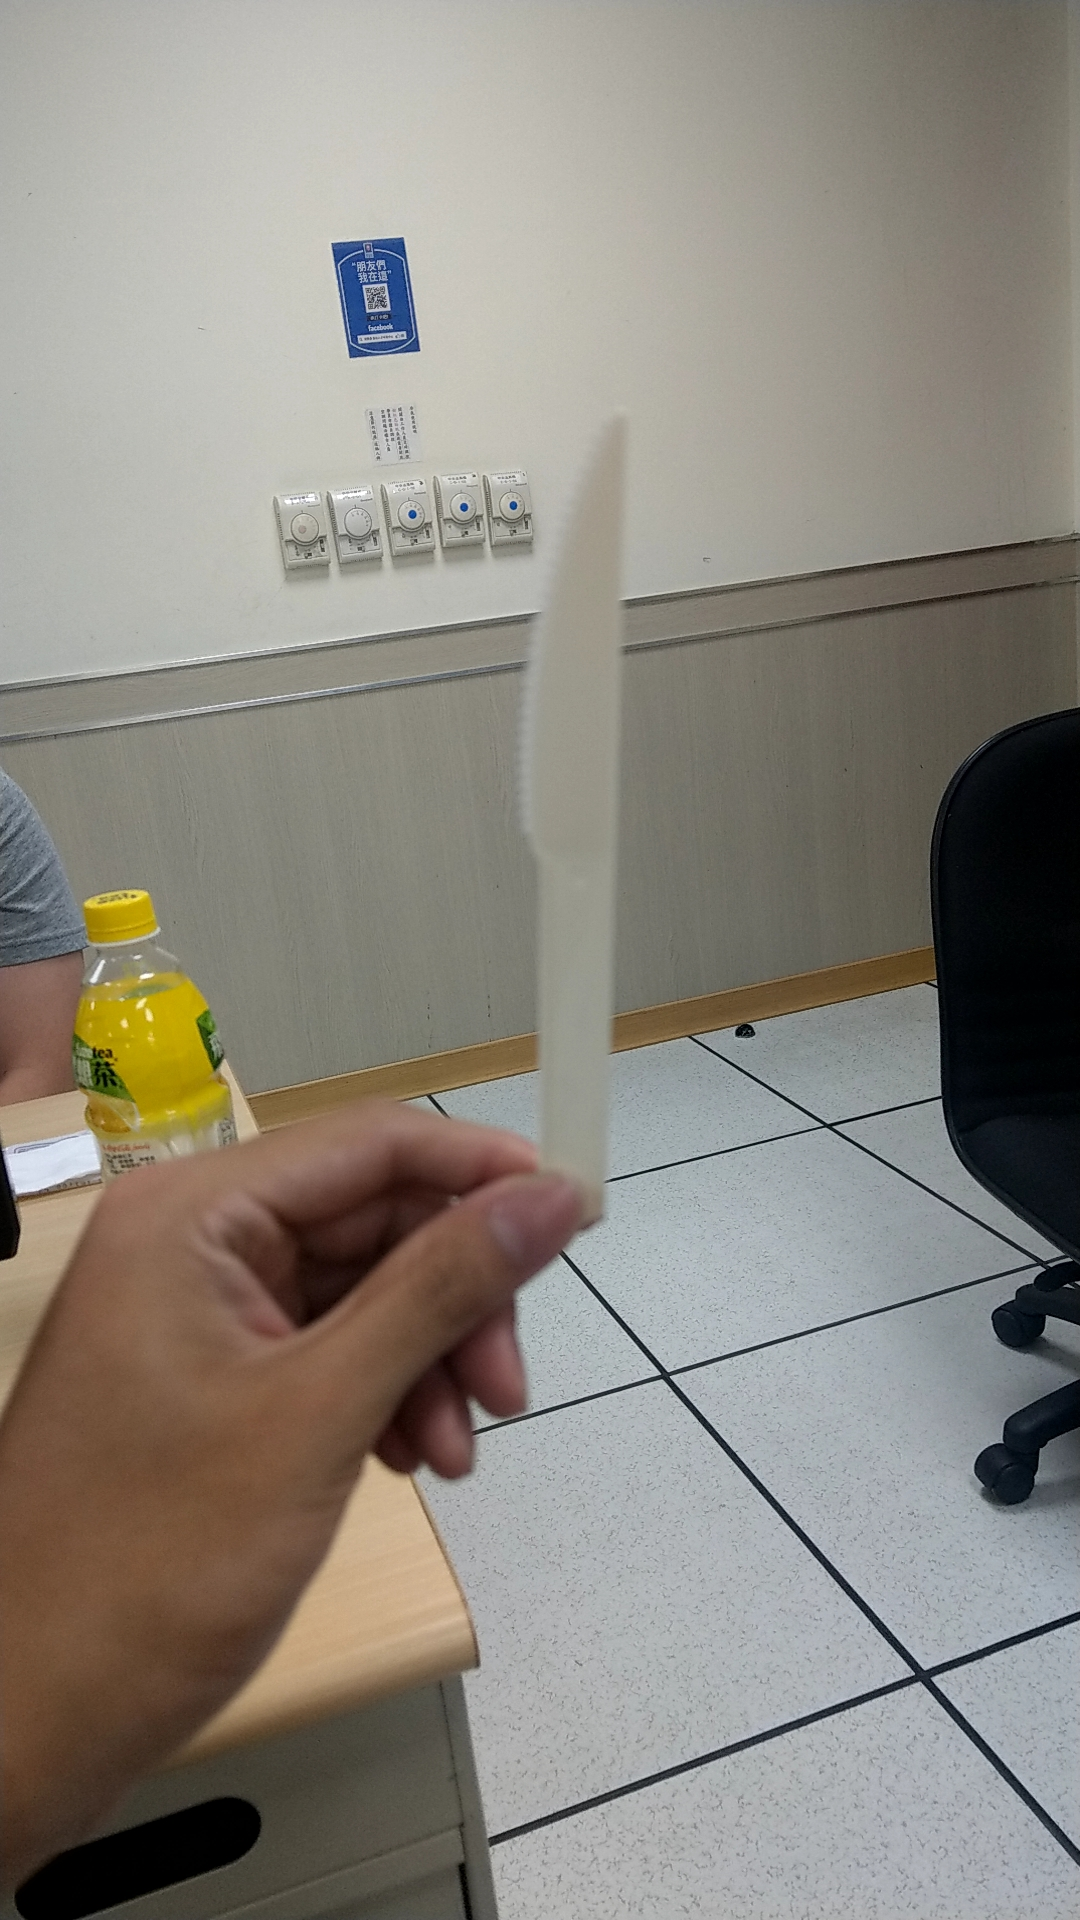knife: (504, 386, 650, 1200)
